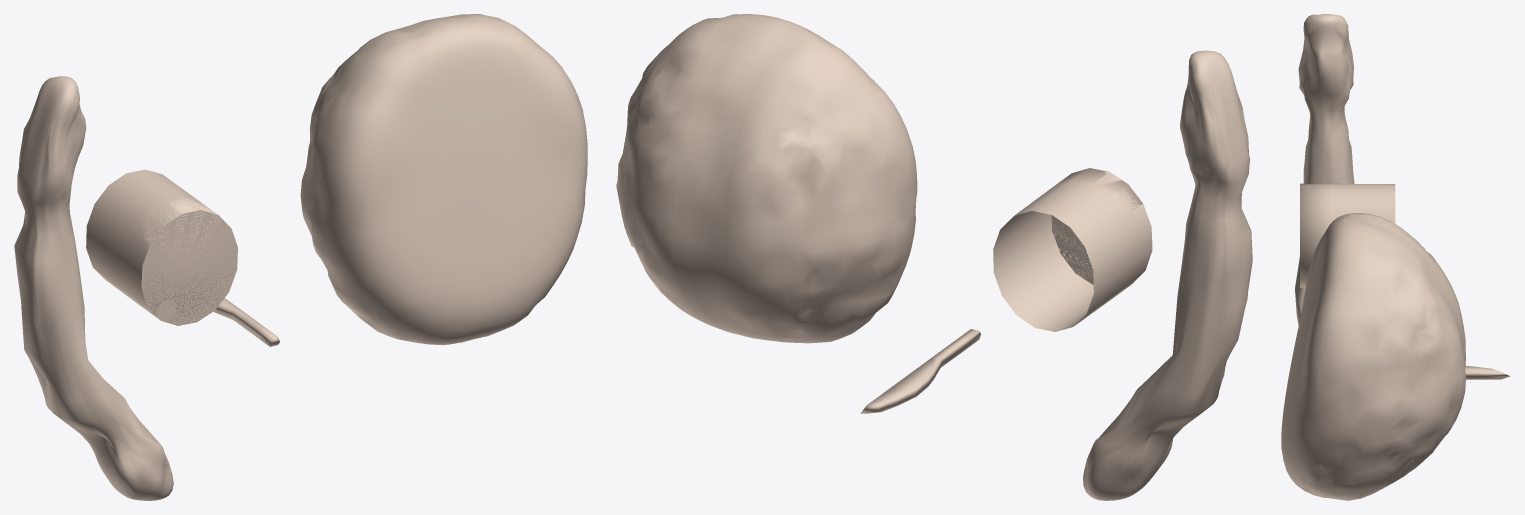
The model's file is utensilios.fbx.
3 views of the same model, side by side, from view 1: azimuth 30°, elevation 25°; view 2: azimuth 150°, elevation 25°; view 3: azimuth 270°, elevation 25° (orthographic). The views are drawn at different scales.
Parts seen in each view (by area): view 1: Plane.000, Plane.001, Plane.004, Plane.005; view 2: Plane.000, Plane.001, Plane.004, Plane.005; view 3: Plane.000, Plane.001, Plane.004, Plane.005.
Part boxes in pixels (<box>): Plane.000: <box>300,14,587,345</box>; Plane.001: <box>14,76,173,500</box>; Plane.004: <box>86,169,237,325</box>; Plane.005: <box>213,298,279,346</box>; Plane.000: <box>616,14,917,343</box>; Plane.001: <box>1083,50,1252,500</box>; Plane.004: <box>993,168,1152,331</box>; Plane.005: <box>860,329,980,413</box>; Plane.000: <box>1281,213,1465,500</box>; Plane.001: <box>1295,14,1354,325</box>; Plane.004: <box>1300,183,1395,287</box>; Plane.005: <box>1465,366,1510,379</box>.
Size of the model in its own units: 84.42 by 63.38 by 34.68.
